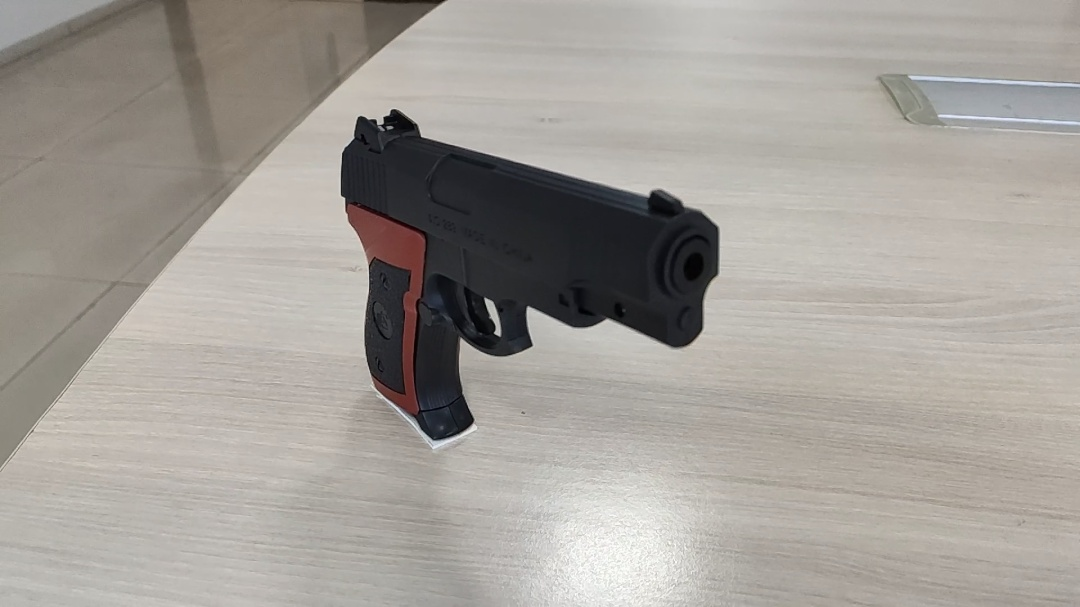gun: (585, 263, 625, 300)
